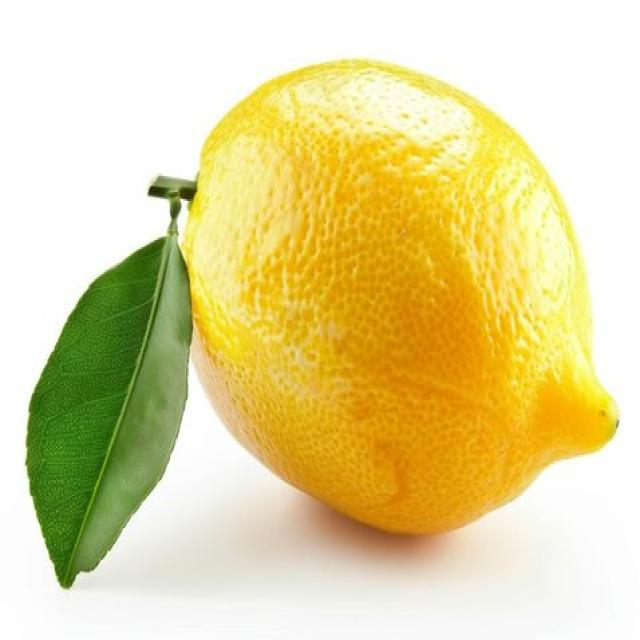Lemon: (178, 55, 620, 537)
